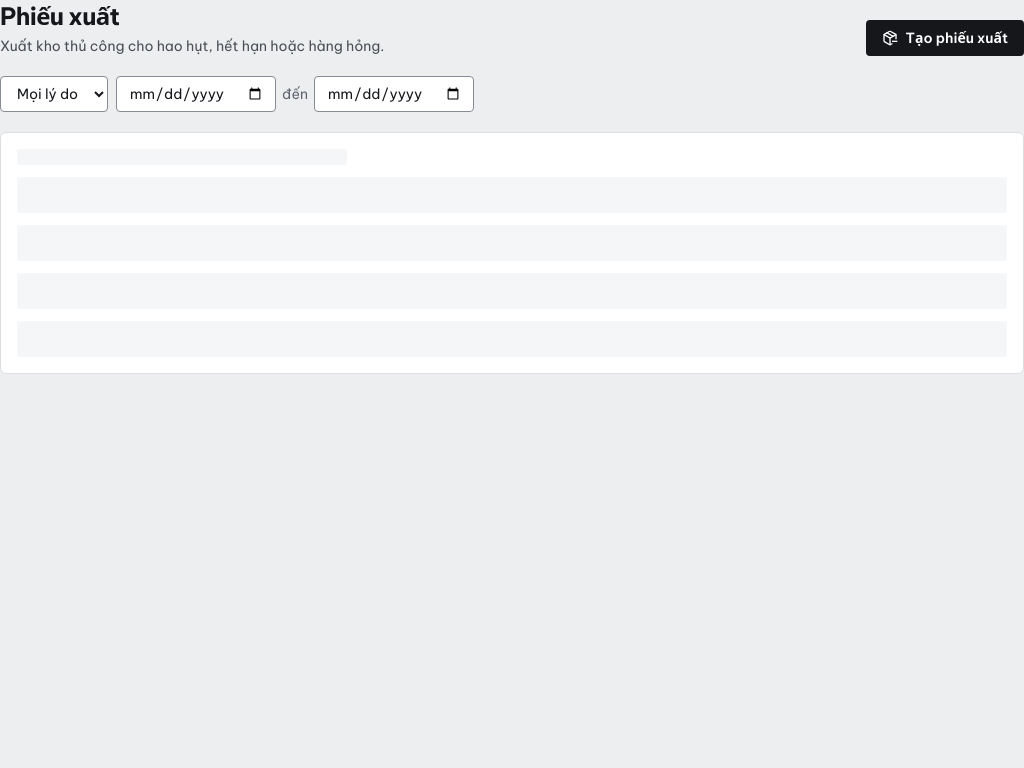
Test case: IssueList › shows the API's negative-stock error inline
Click the button "Tạo phiếu xuất" at (945, 38), box [866,20,1023,56]
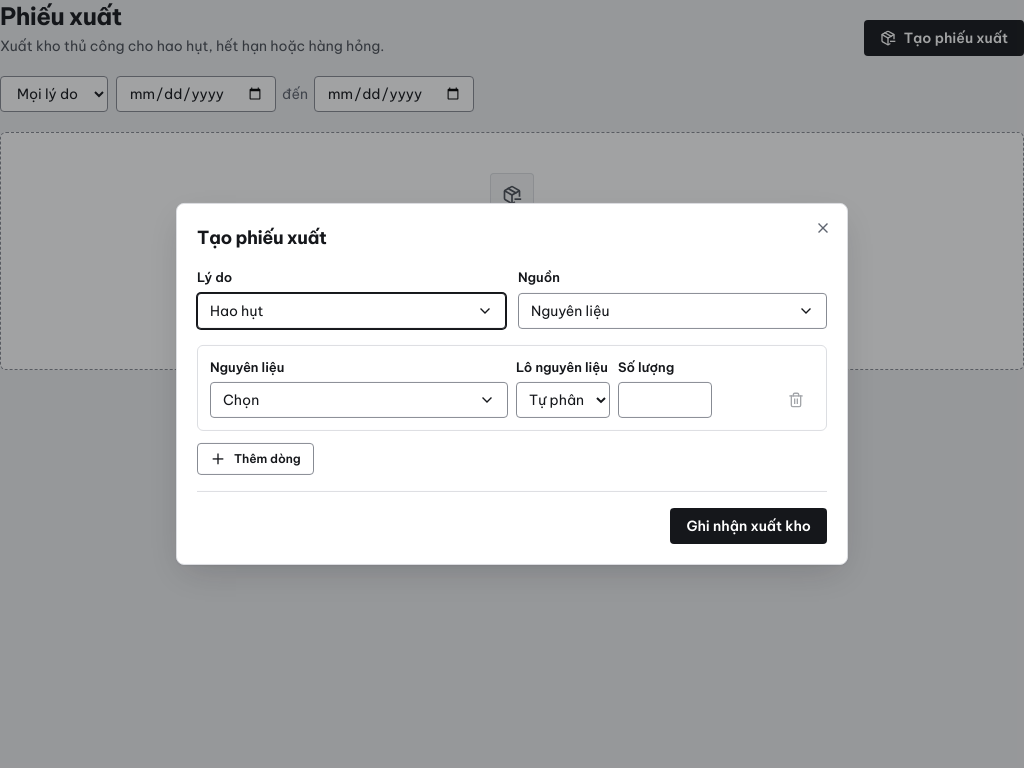
Type "100" into the number field labelled "Số lượng" at (665, 400), box [618,382,712,418]
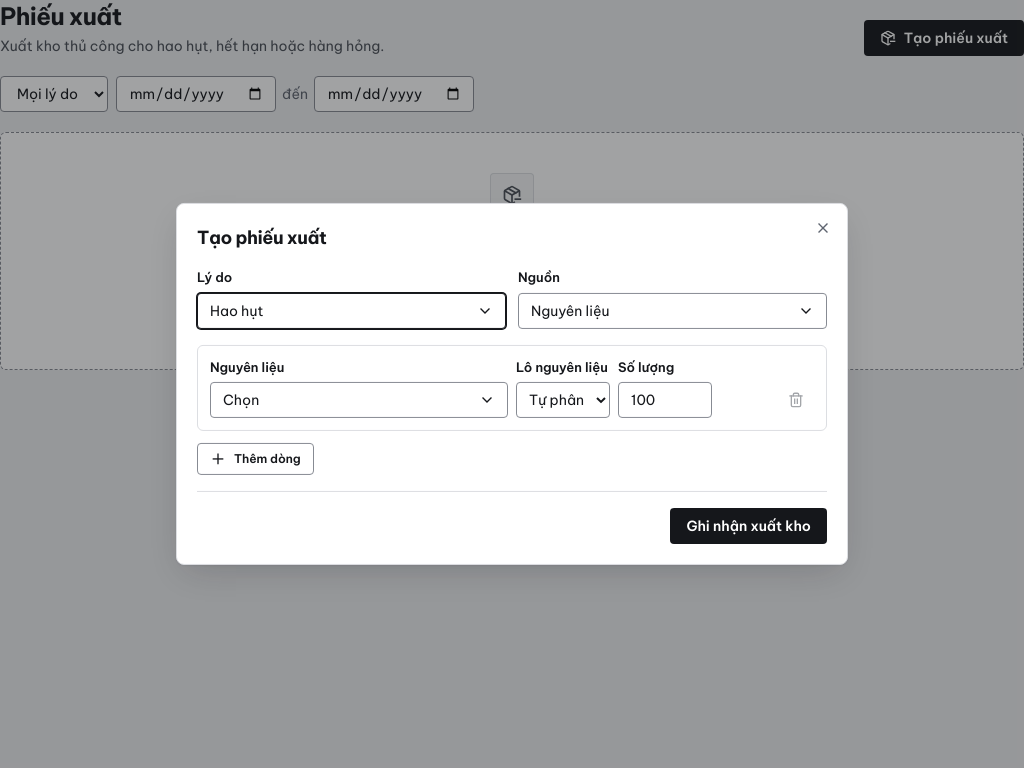
Click the dropdown named "Nguyên liệu" at (241, 400), box [210,382,508,418]
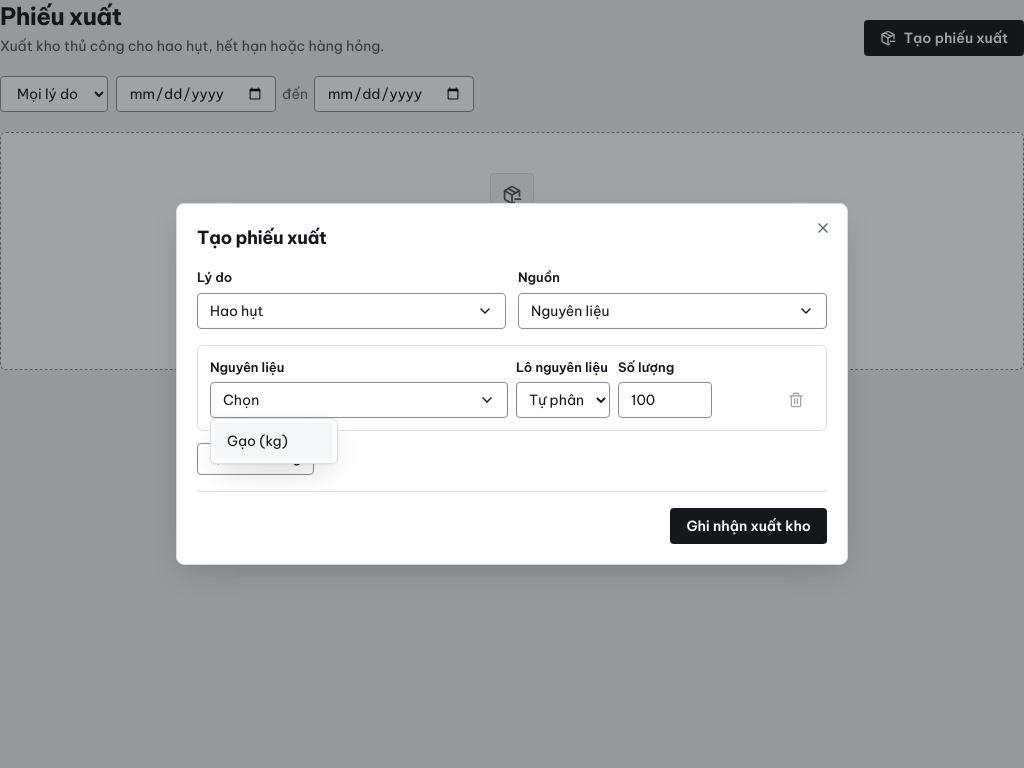
Click the option "Gạo (kg)" at (274, 441), box [215,423,333,459]
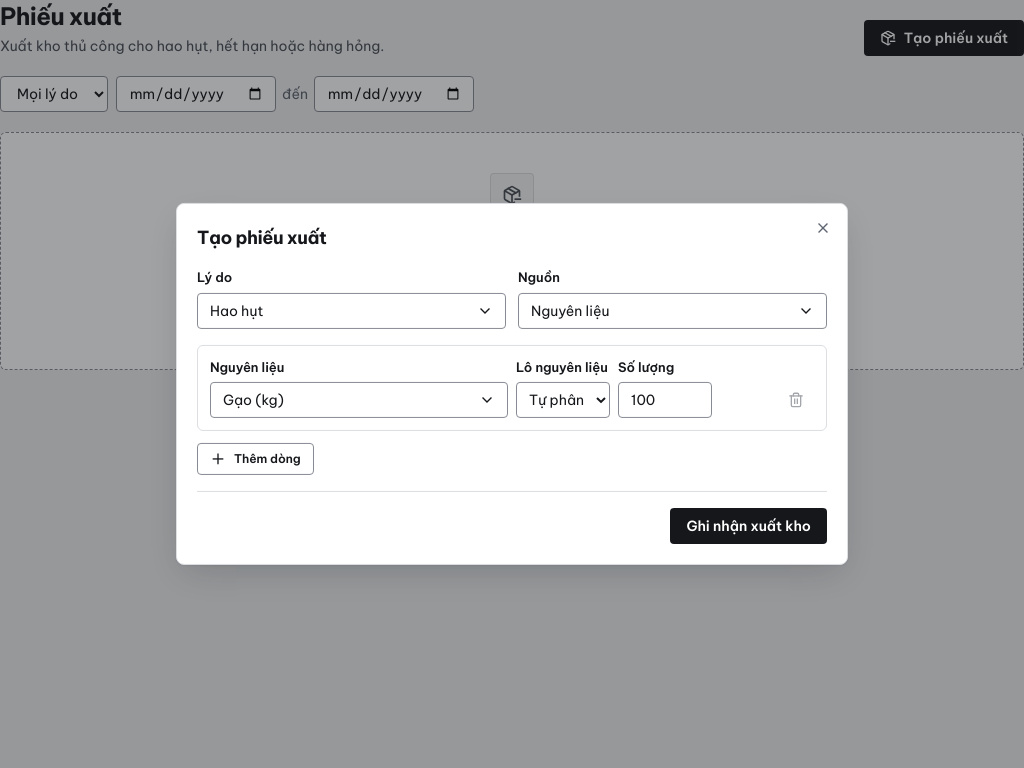
Click the button "Ghi nhận xuất kho" at (749, 526), box [670,508,827,544]
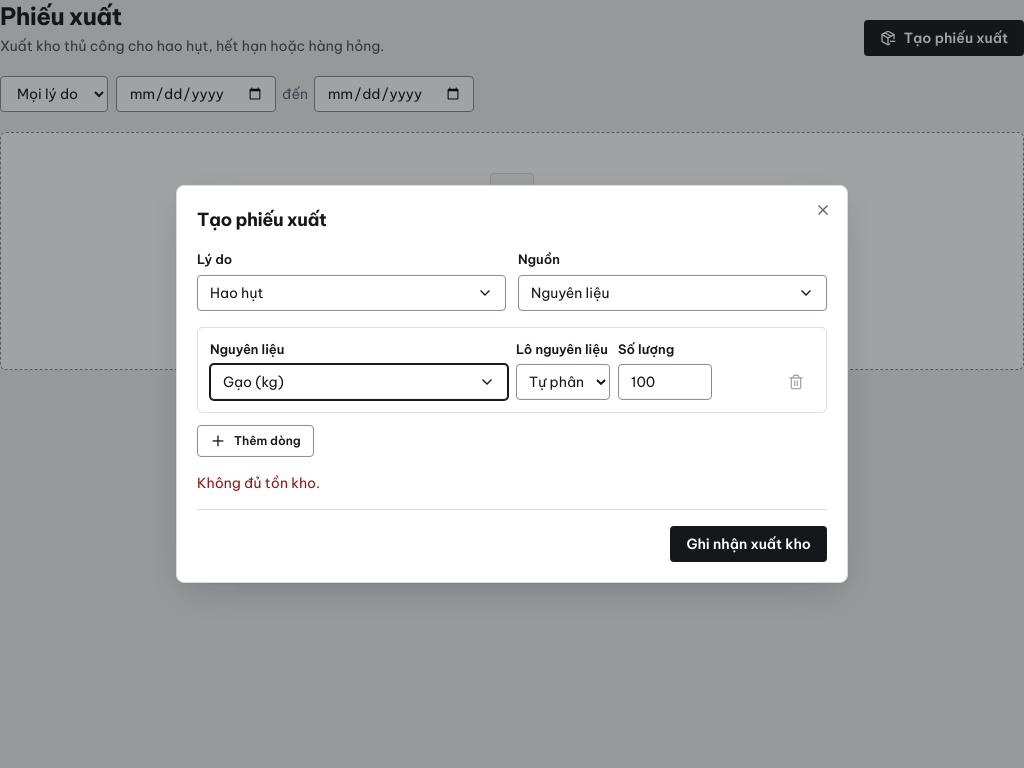
Result: the message reads "Không đủ tồn kho." at [197,474,320,492]
